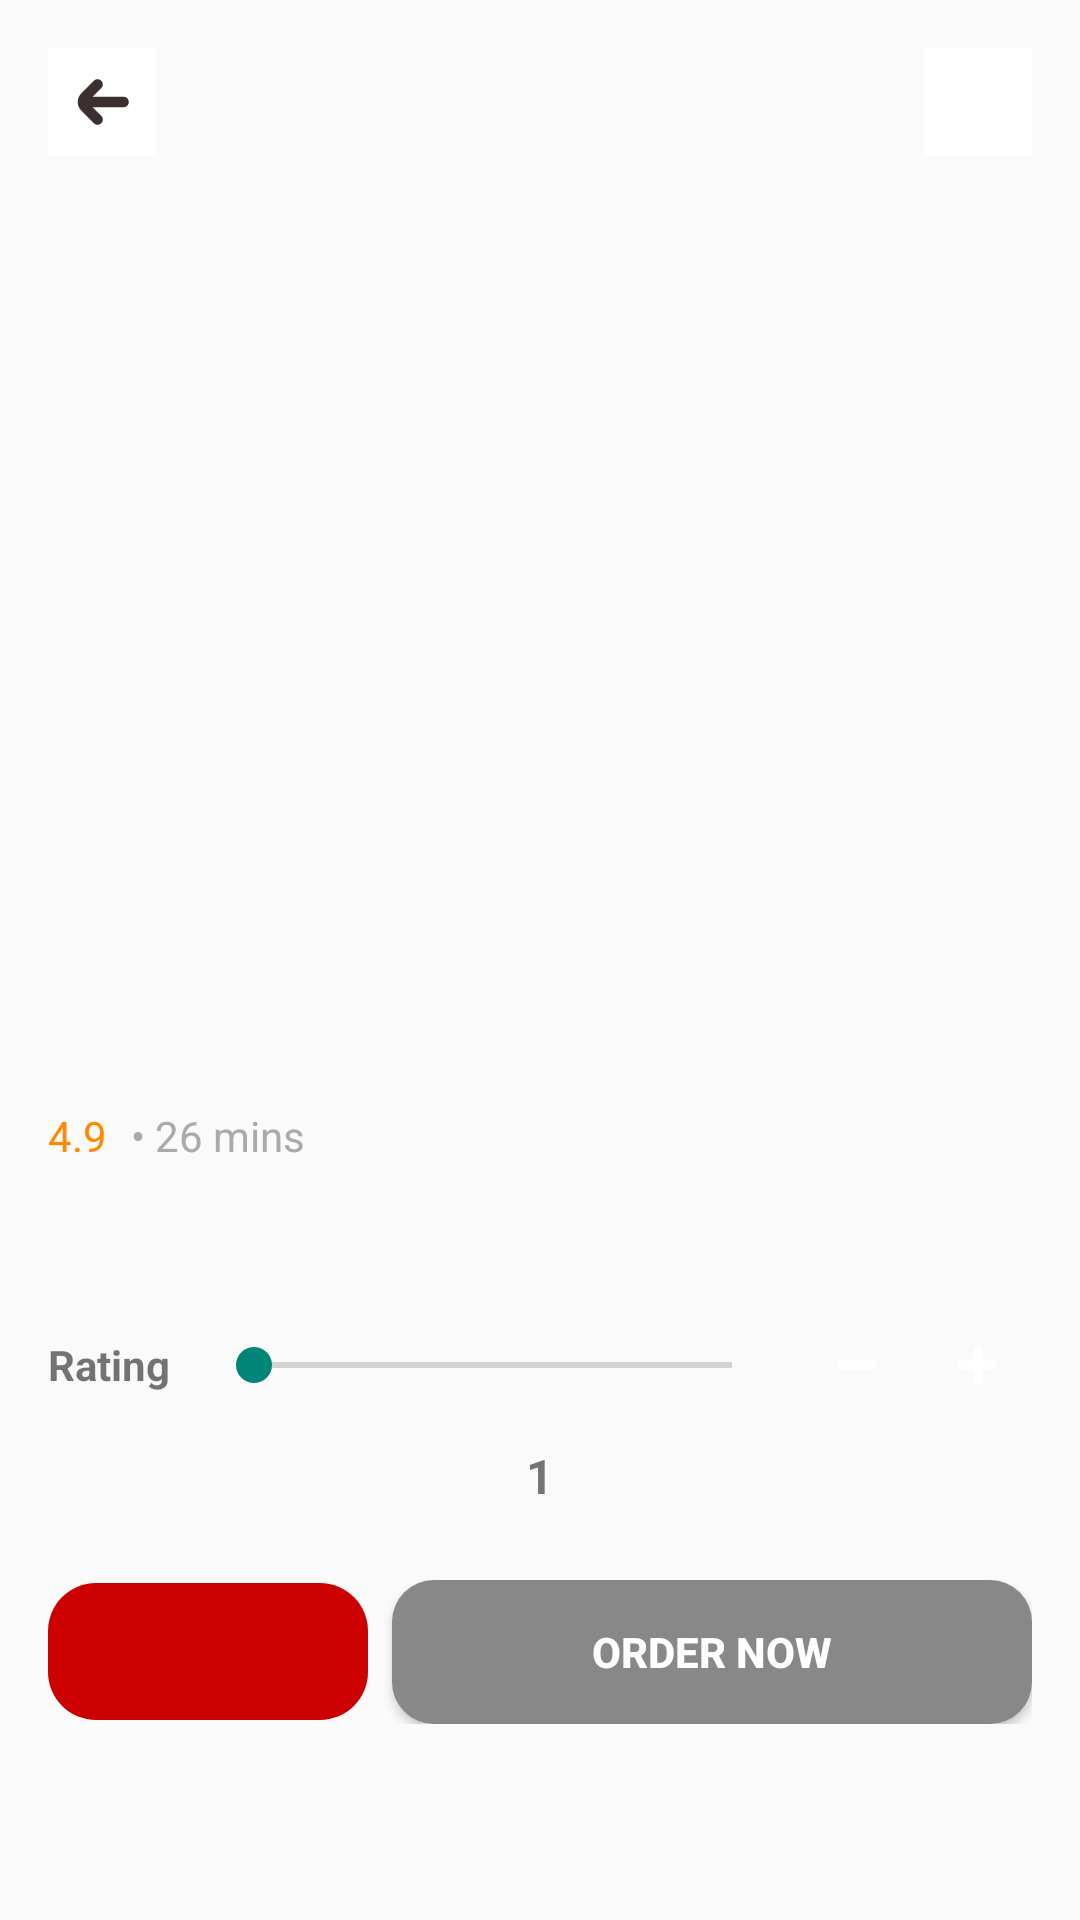

Where icons sit on this 1080*1920 app screen, as (x1, y1, x2, y2):
back arrow: (77, 79, 129, 125)
